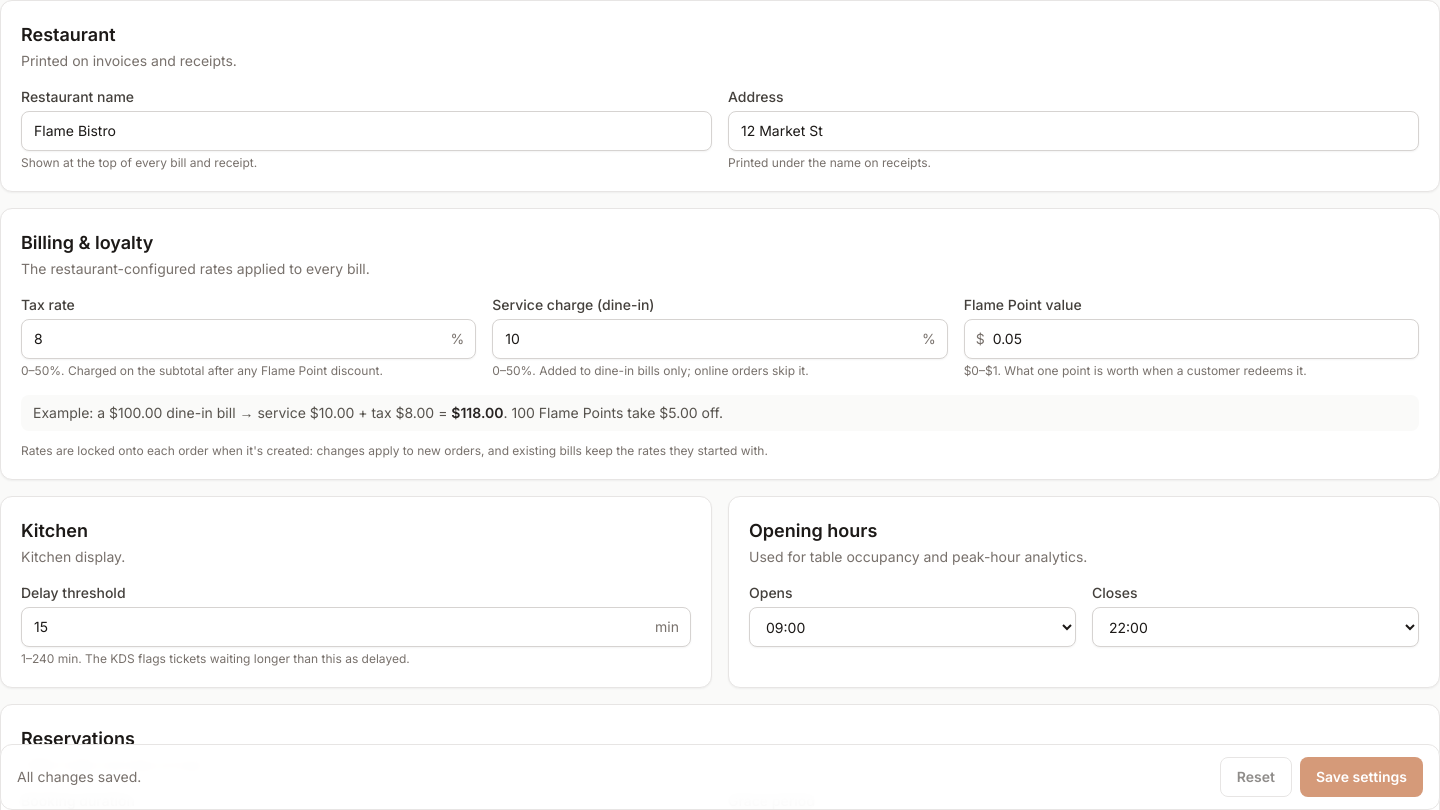
Scenario: SettingsForm › resets the form back to the saved values when Reset is clicked
Step 1. Replace the text in the field showing "Flame Bistro" with "Changed Name" → (366,131), box top-left (21, 111), bottom-right (712, 151)
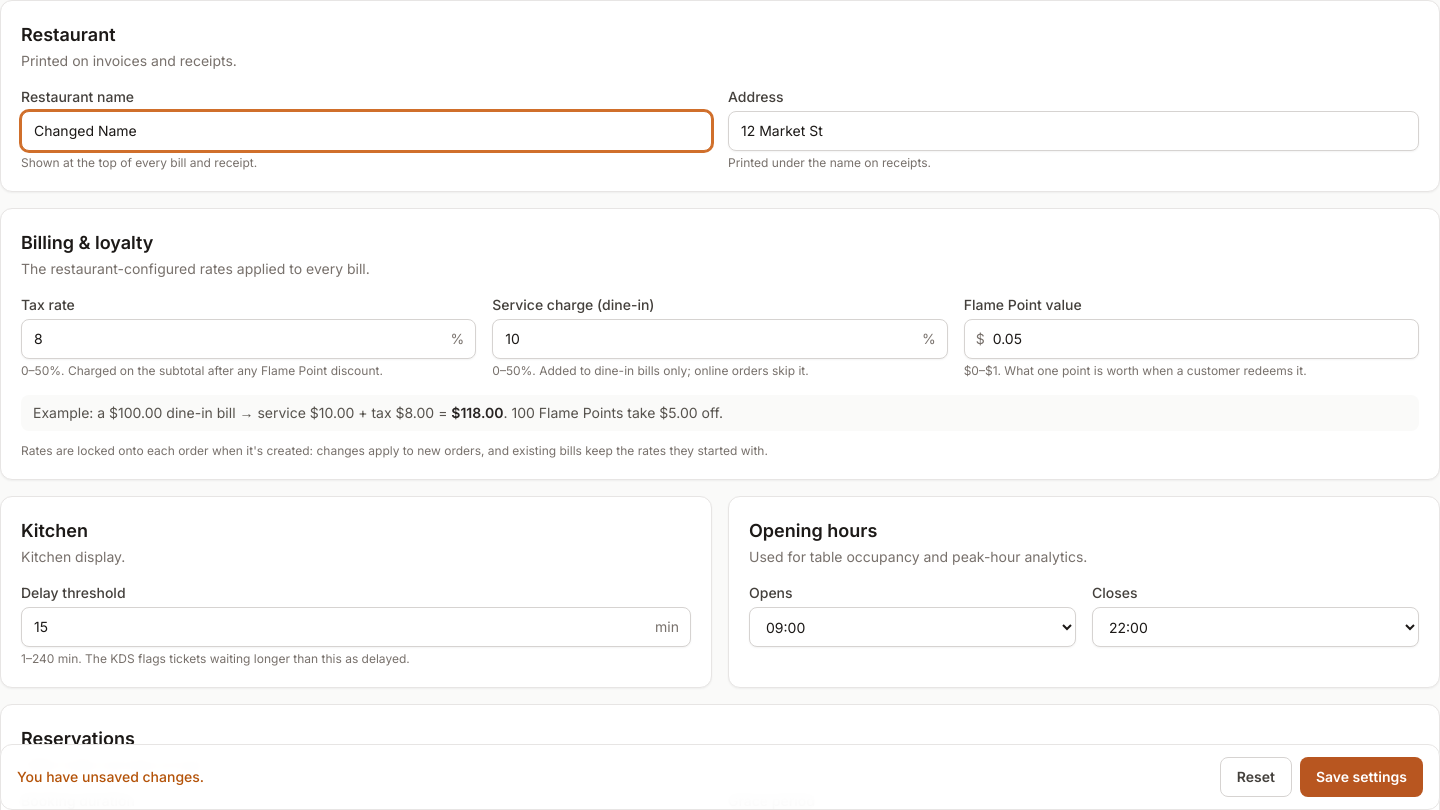
Step 2. Click the button "Reset" → (1256,777), box top-left (1220, 757), bottom-right (1292, 797)
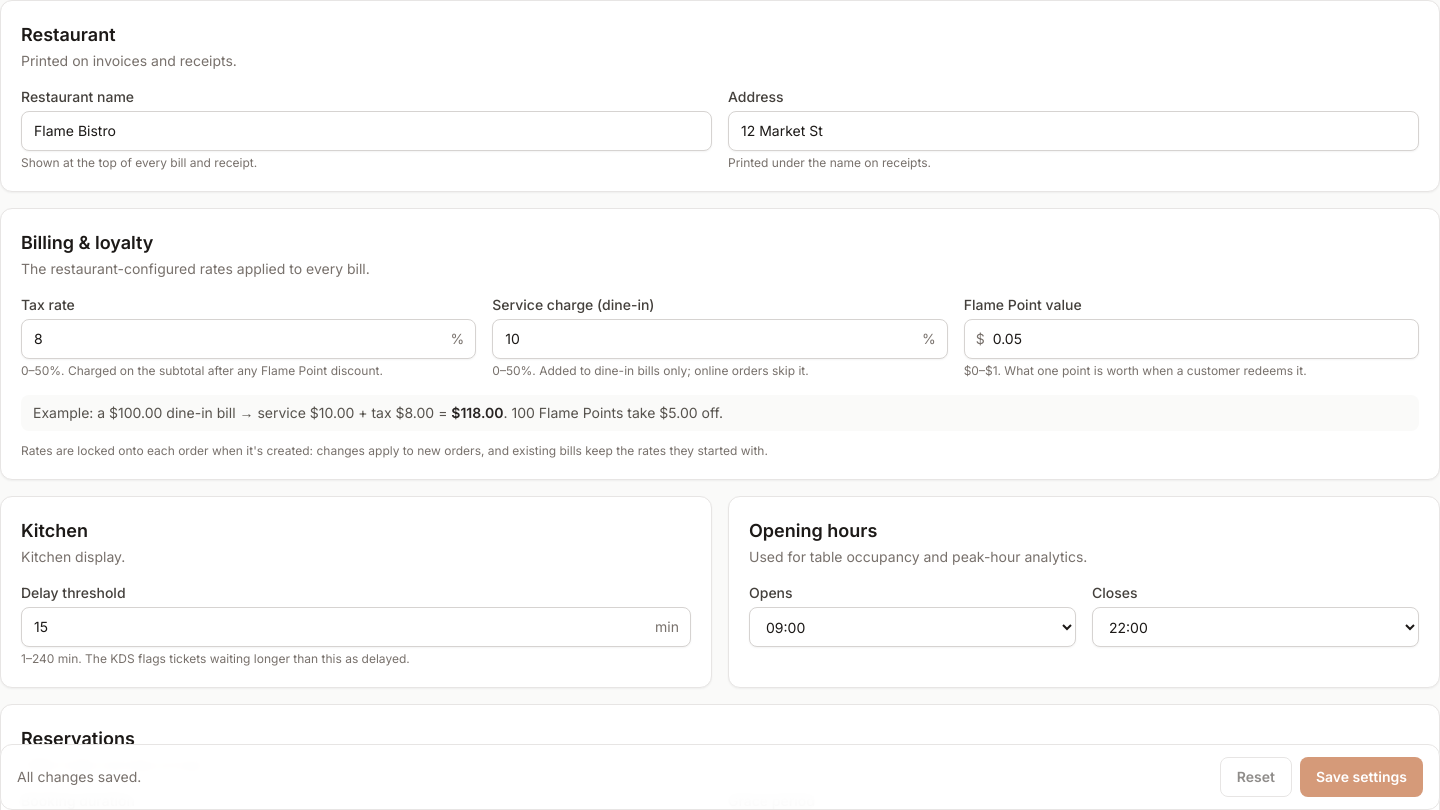
Check: the field showing "Flame Bistro" is shown, box top-left (21, 111), bottom-right (712, 151)
Check: the text "All changes saved." is shown, box top-left (17, 767), bottom-right (141, 787)
